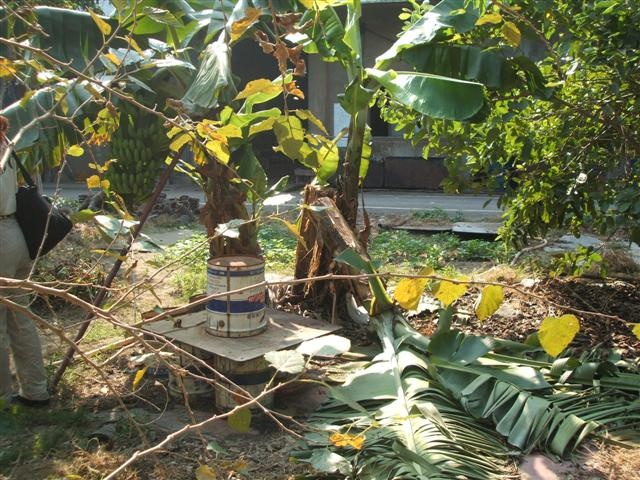bucket: (206, 253, 268, 338)
